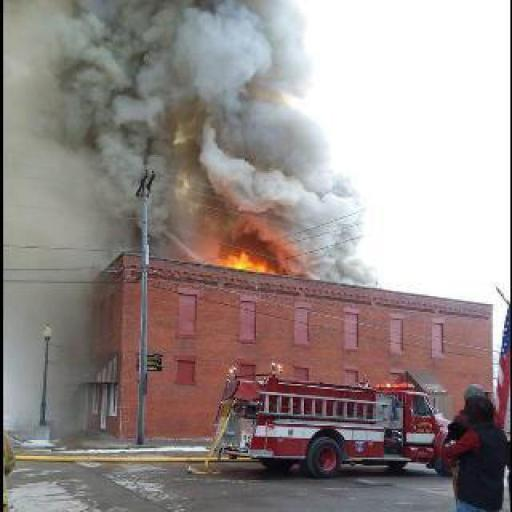smoke: (2, 162, 100, 435), (270, 134, 398, 284), (206, 246, 270, 286)
